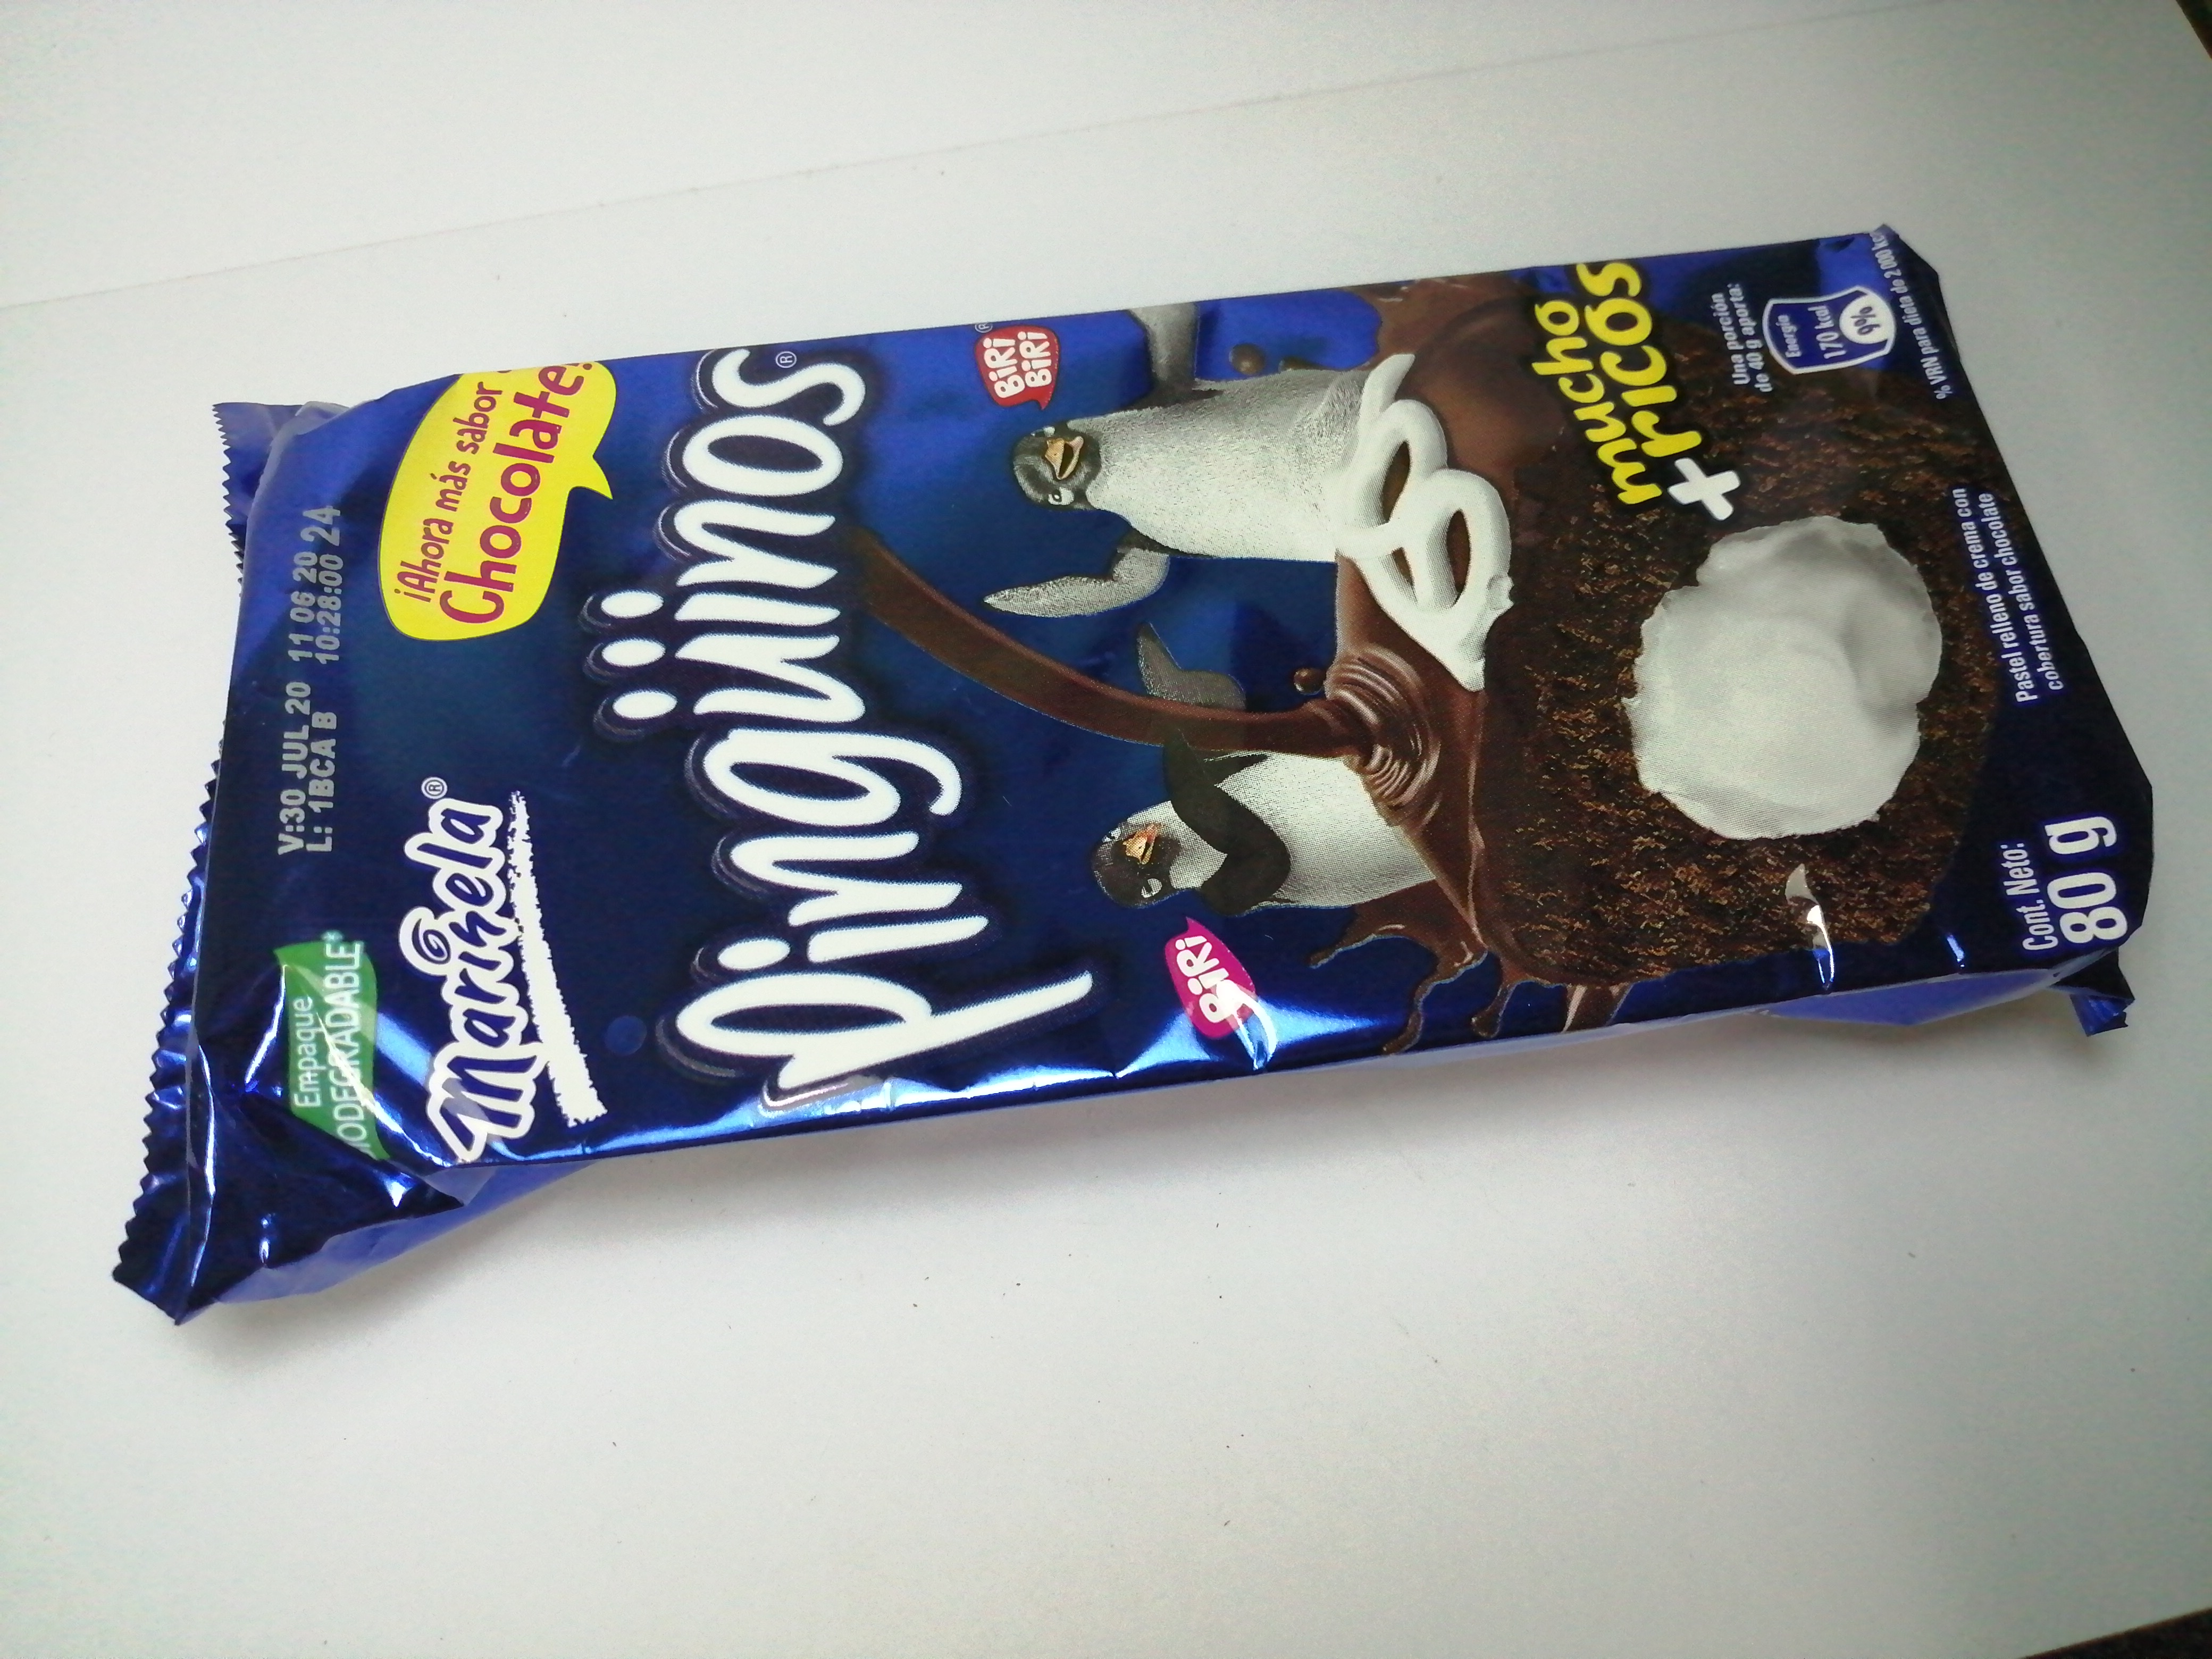pinguino: (118, 225, 2146, 1331)
